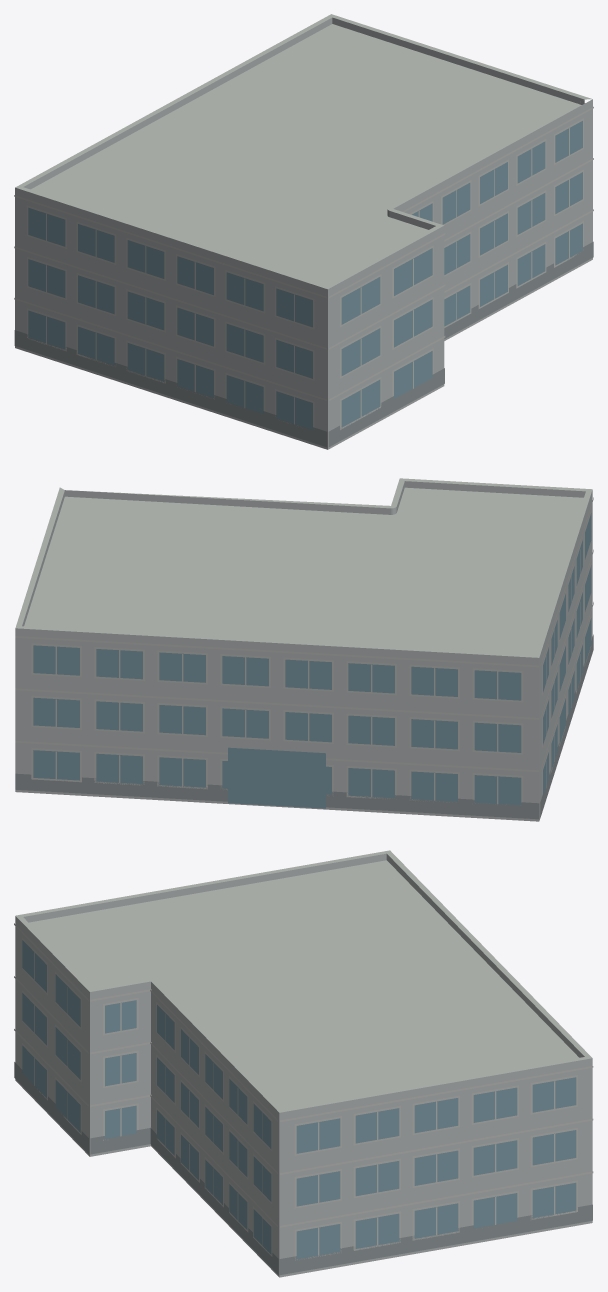
File: public-a41495c7-34f2-4e9c-8f28-e5781b6f627f.glb
3 renders of one model, top to bottom at view 1: azimuth 30°, elevation 25°; view 2: azimuth 150°, elevation 25°; view 3: azimuth 270°, elevation 25°, orthographic. The views are drawn at different scales.
Visible parts, largest first — view 1: public-a41495c7-34f2-4e9c-8f28-e5781b6f627f; view 2: public-a41495c7-34f2-4e9c-8f28-e5781b6f627f; view 3: public-a41495c7-34f2-4e9c-8f28-e5781b6f627f.
Part boxes in pixels (left/top/right/bottom): public-a41495c7-34f2-4e9c-8f28-e5781b6f627f: left=14, top=14, right=593, bottom=449; public-a41495c7-34f2-4e9c-8f28-e5781b6f627f: left=15, top=478, right=593, bottom=821; public-a41495c7-34f2-4e9c-8f28-e5781b6f627f: left=14, top=850, right=593, bottom=1277.
Size of the model in its own units: 31.38 by 9.15 by 29.18.
